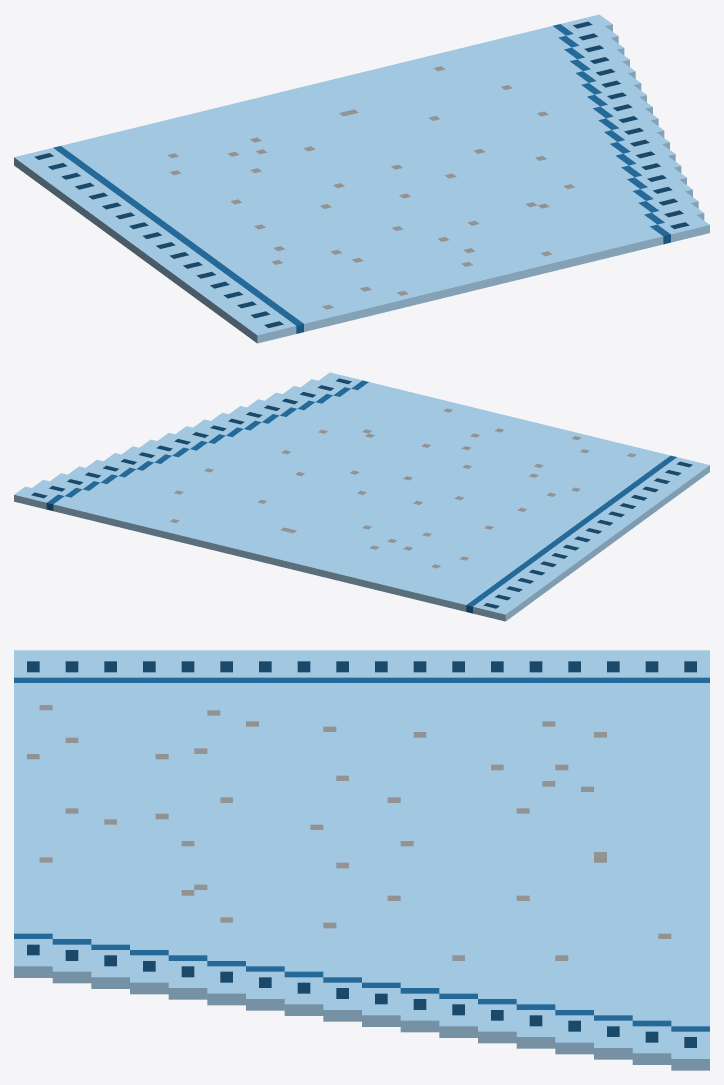
Rendered from Split_0-1.obj.
The picture shows the model from 3 angles, top to bottom: view 1: azimuth 30°, elevation 25°; view 2: azimuth 150°, elevation 25°; view 3: azimuth 270°, elevation 25°; orthographic projection. The views are drawn at different scales.
Visible parts, largest first — view 1: Split_0-1; view 2: Split_0-1; view 3: Split_0-1.
Part boxes in pixels (x1,y1,x2,y2): Split_0-1: (14,14,709,343); Split_0-1: (14,372,709,621); Split_0-1: (14,650,709,1070).
Bounding box in the file's own units: 75 × 1 × 54.
1 material, 1 textured.
